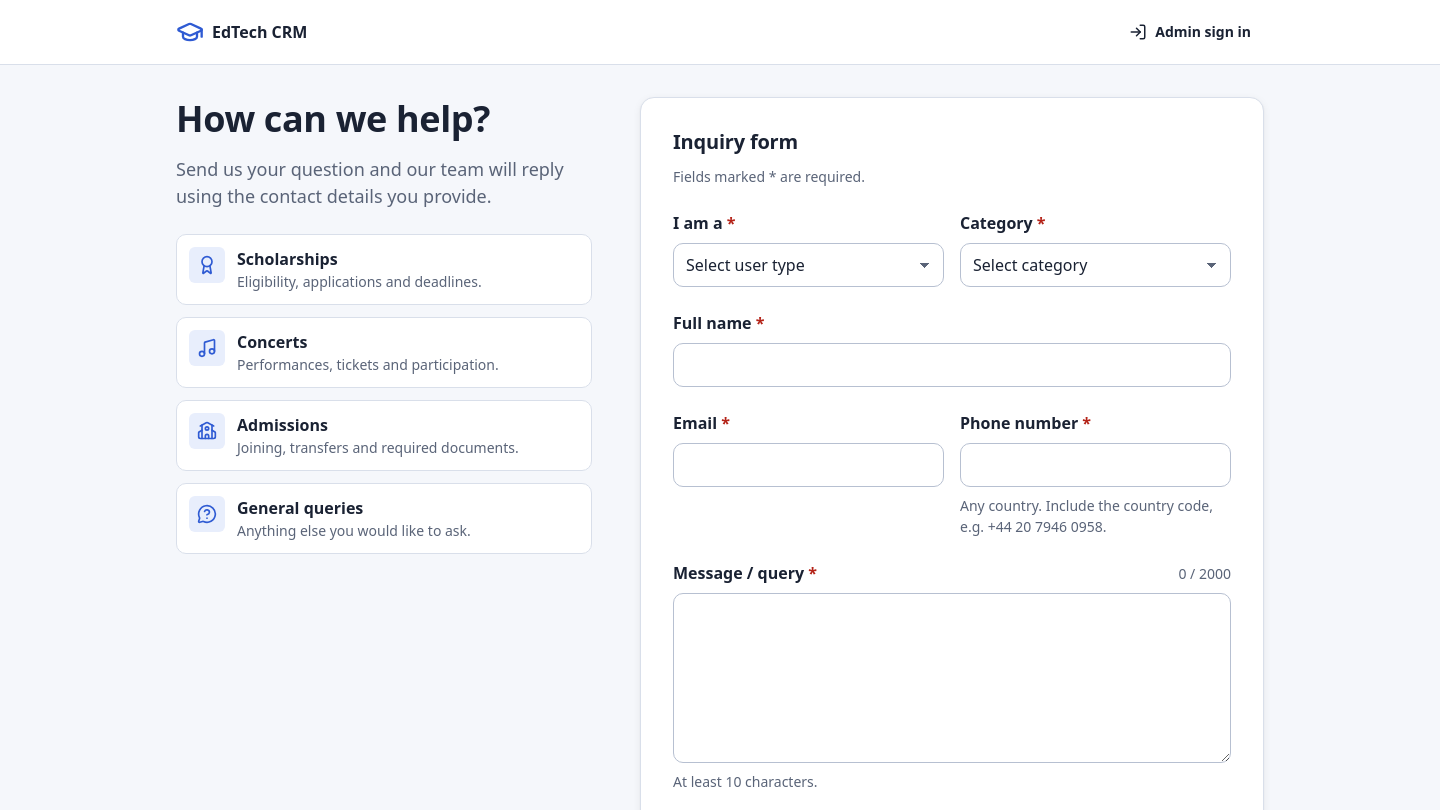
Test: public inquiry form › shows a live character count for the message
In the text box labelled "Message / query *": (952, 678) x1=673 y1=593 x2=1231 y2=763, type "Hello"
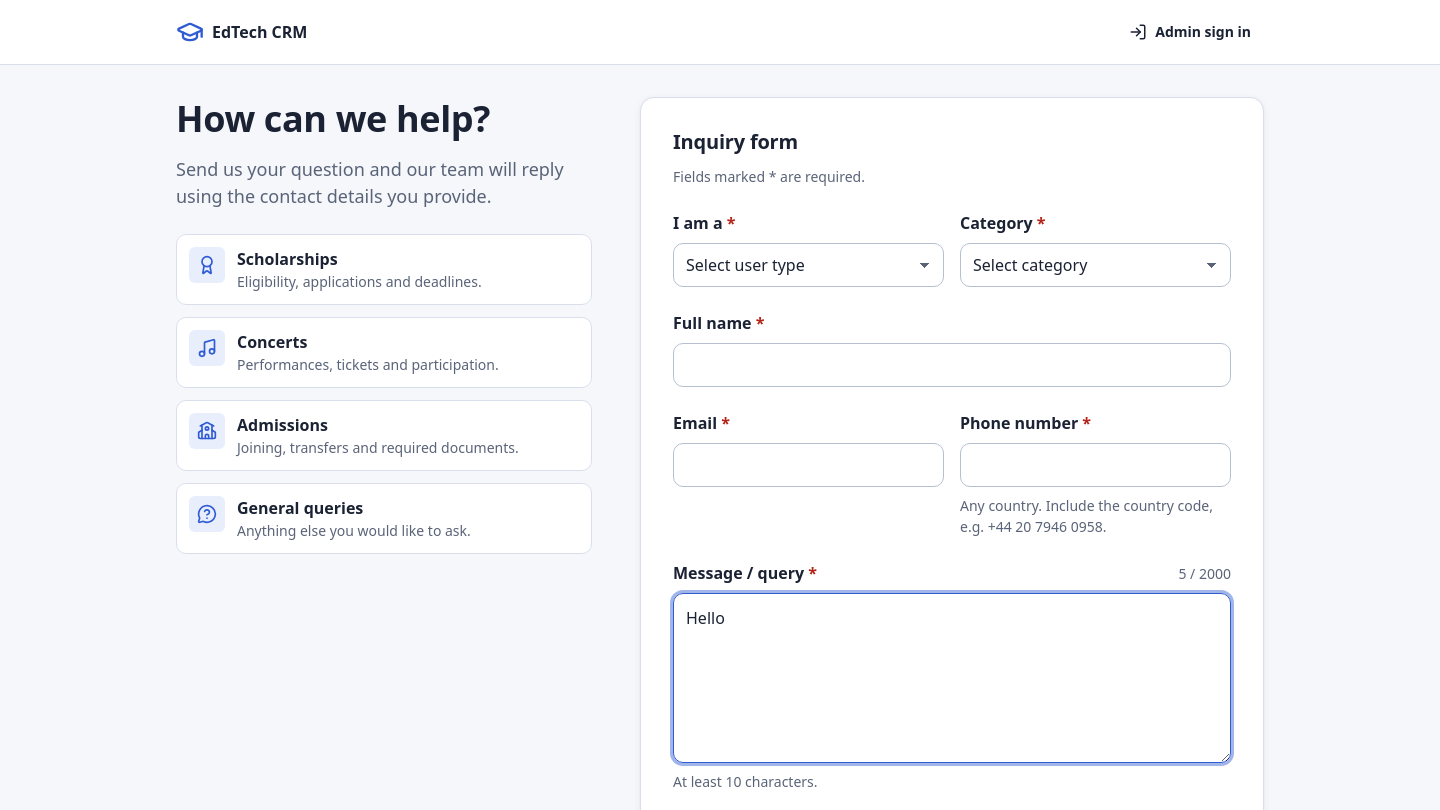
expect the text "5 / 2000" is shown: met, box x1=1178 y1=563 x2=1231 y2=584
